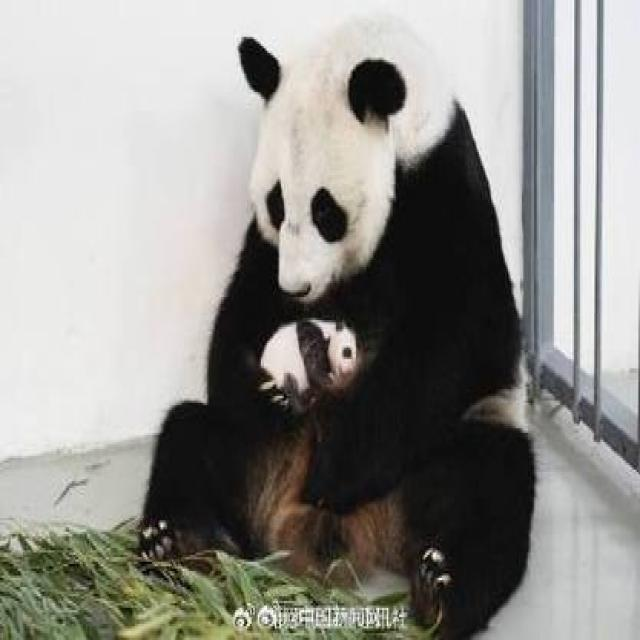panda: (134, 23, 548, 602)
